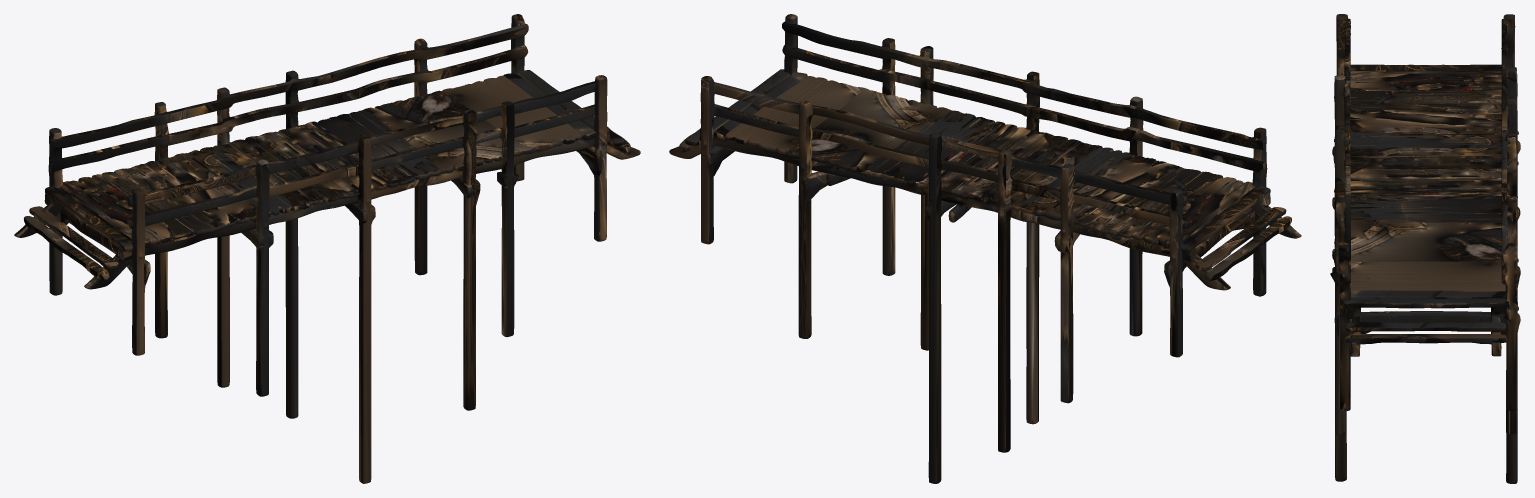
File: WoodenBridge.fbx
The picture shows the model from 3 angles, left to right: view 1: azimuth 30°, elevation 25°; view 2: azimuth 150°, elevation 25°; view 3: azimuth 270°, elevation 25°; orthographic projection.
Parts seen in each view (by area): view 1: WoodenBridge; view 2: WoodenBridge; view 3: WoodenBridge.
Boxes of the visible parts, x1=… form: WoodenBridge: x1=14, y1=14, x2=640, y2=483; WoodenBridge: x1=669, y1=14, x2=1301, y2=483; WoodenBridge: x1=1330, y1=14, x2=1520, y2=483.
Size of the model in its own units: 1152 by 686 by 339.
